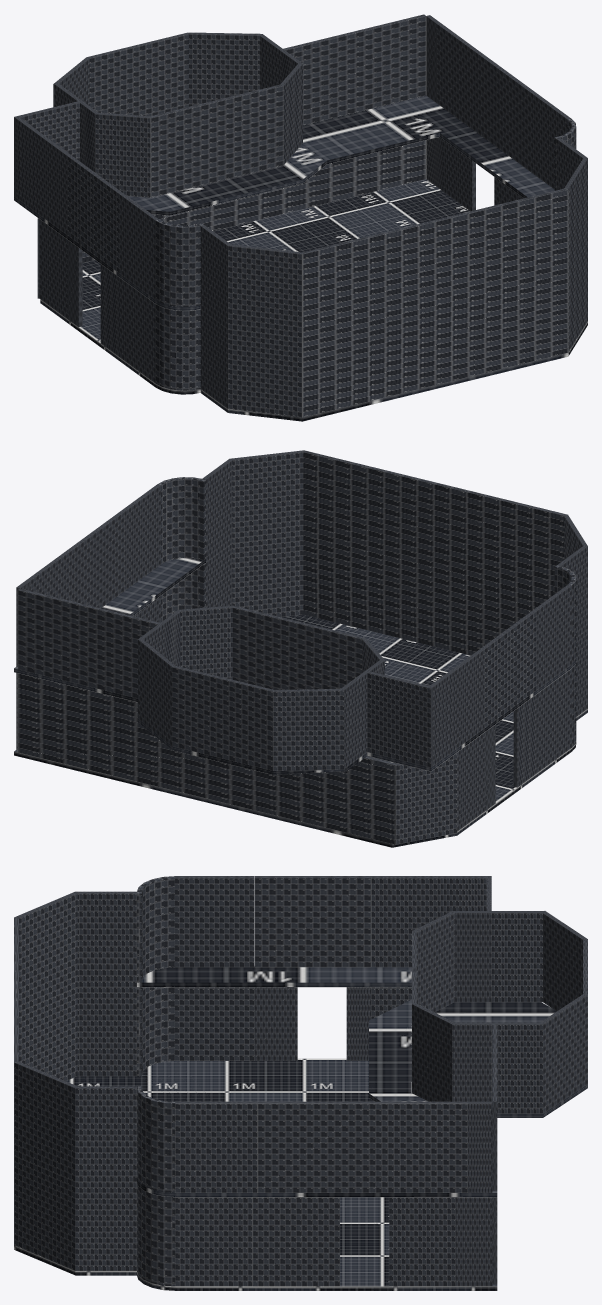
File: escalier.fbx
The picture shows the model from 3 angles, top to bottom: view 1: azimuth 30°, elevation 25°; view 2: azimuth 150°, elevation 25°; view 3: azimuth 270°, elevation 25°; orthographic projection. The views are drawn at different scales.
Parts seen in each view (by area): view 1: Cube__154_, Cube__34_, sol_balcon_hall, sol_hall, Cube__250_, Cube__185_, Cube__108_, Cube__183_, Cube__153_, Cube__33_, Cube__184_, Cube__148_ (+26 smaller); view 2: Cube__108_, Cube__154_, Cube__34_, Cube__185_, Cube__250_, Cube__183_, sol_hall, Cube__155_, Cube__182_, Cube__172_, Cube__35_, Cube__72_ (+25 smaller); view 3: sol_hall, sol_balcon_hall, Cube__148_, Cube__221_, Cube__211_, Cube__36_, Cube__157_, Cube__151_, Cube__32_, Cube__88_, Cube__155_, Cube__29_ (+29 smaller).
Boxes of the visible parts, x1,y1,x2,y2 form: Cube__154_: (302, 188, 568, 337); Cube__34_: (302, 273, 568, 417); sol_balcon_hall: (14, 95, 554, 310); sol_hall: (40, 179, 587, 421); Cube__250_: (149, 84, 283, 197); Cube__185_: (283, 14, 426, 125); Cube__108_: (82, 140, 426, 262); Cube__183_: (87, 32, 188, 116); Cube__153_: (228, 244, 302, 337); Cube__33_: (228, 329, 301, 417); Cube__184_: (188, 32, 260, 106); Cube__148_: (67, 155, 123, 273); Cube__108_: (17, 673, 397, 844); Cube__154_: (301, 450, 567, 595); Cube__34_: (303, 535, 551, 655); Cube__185_: (17, 588, 159, 698); Cube__250_: (232, 605, 364, 689); Cube__183_: (172, 665, 273, 770); sol_hall: (14, 614, 587, 847); Cube__155_: (229, 450, 303, 543); Cube__182_: (273, 688, 344, 770); Cube__172_: (367, 671, 433, 767); Cube__35_: (232, 535, 303, 617); Cube__72_: (395, 753, 457, 844); sol_hall: (14, 1058, 497, 1290); sol_balcon_hall: (136, 965, 497, 1197); Cube__148_: (254, 876, 371, 967); Cube__221_: (257, 1101, 369, 1192); Cube__211_: (369, 1101, 467, 1192); Cube__36_: (252, 1197, 339, 1286); Cube__157_: (175, 1101, 257, 1192); Cube__151_: (174, 876, 254, 967); Cube__32_: (175, 1197, 252, 1286); Cube__88_: (389, 1197, 455, 1286); Cube__155_: (14, 1061, 78, 1181); Cube__29_: (174, 987, 254, 1060).
Bounding box in the file's own units: 2198 × 840 × 2335.
